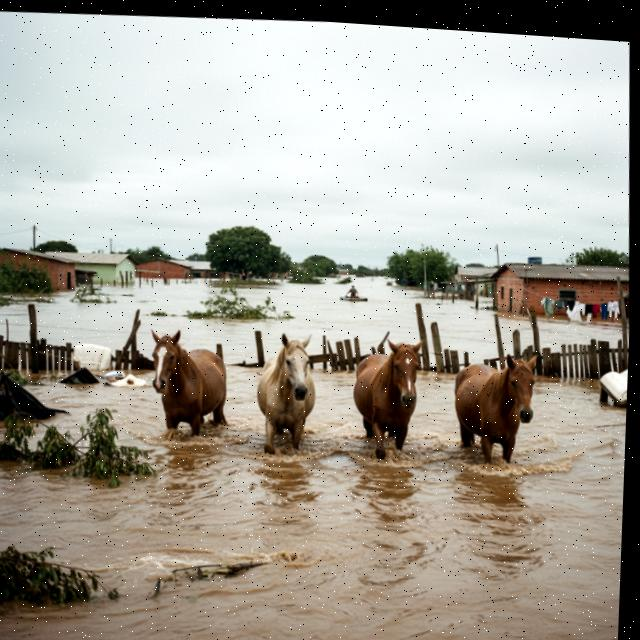civilian: (345, 283, 362, 301)
horse: (436, 336, 556, 473), (140, 321, 240, 447), (339, 321, 423, 470), (240, 320, 326, 460)
